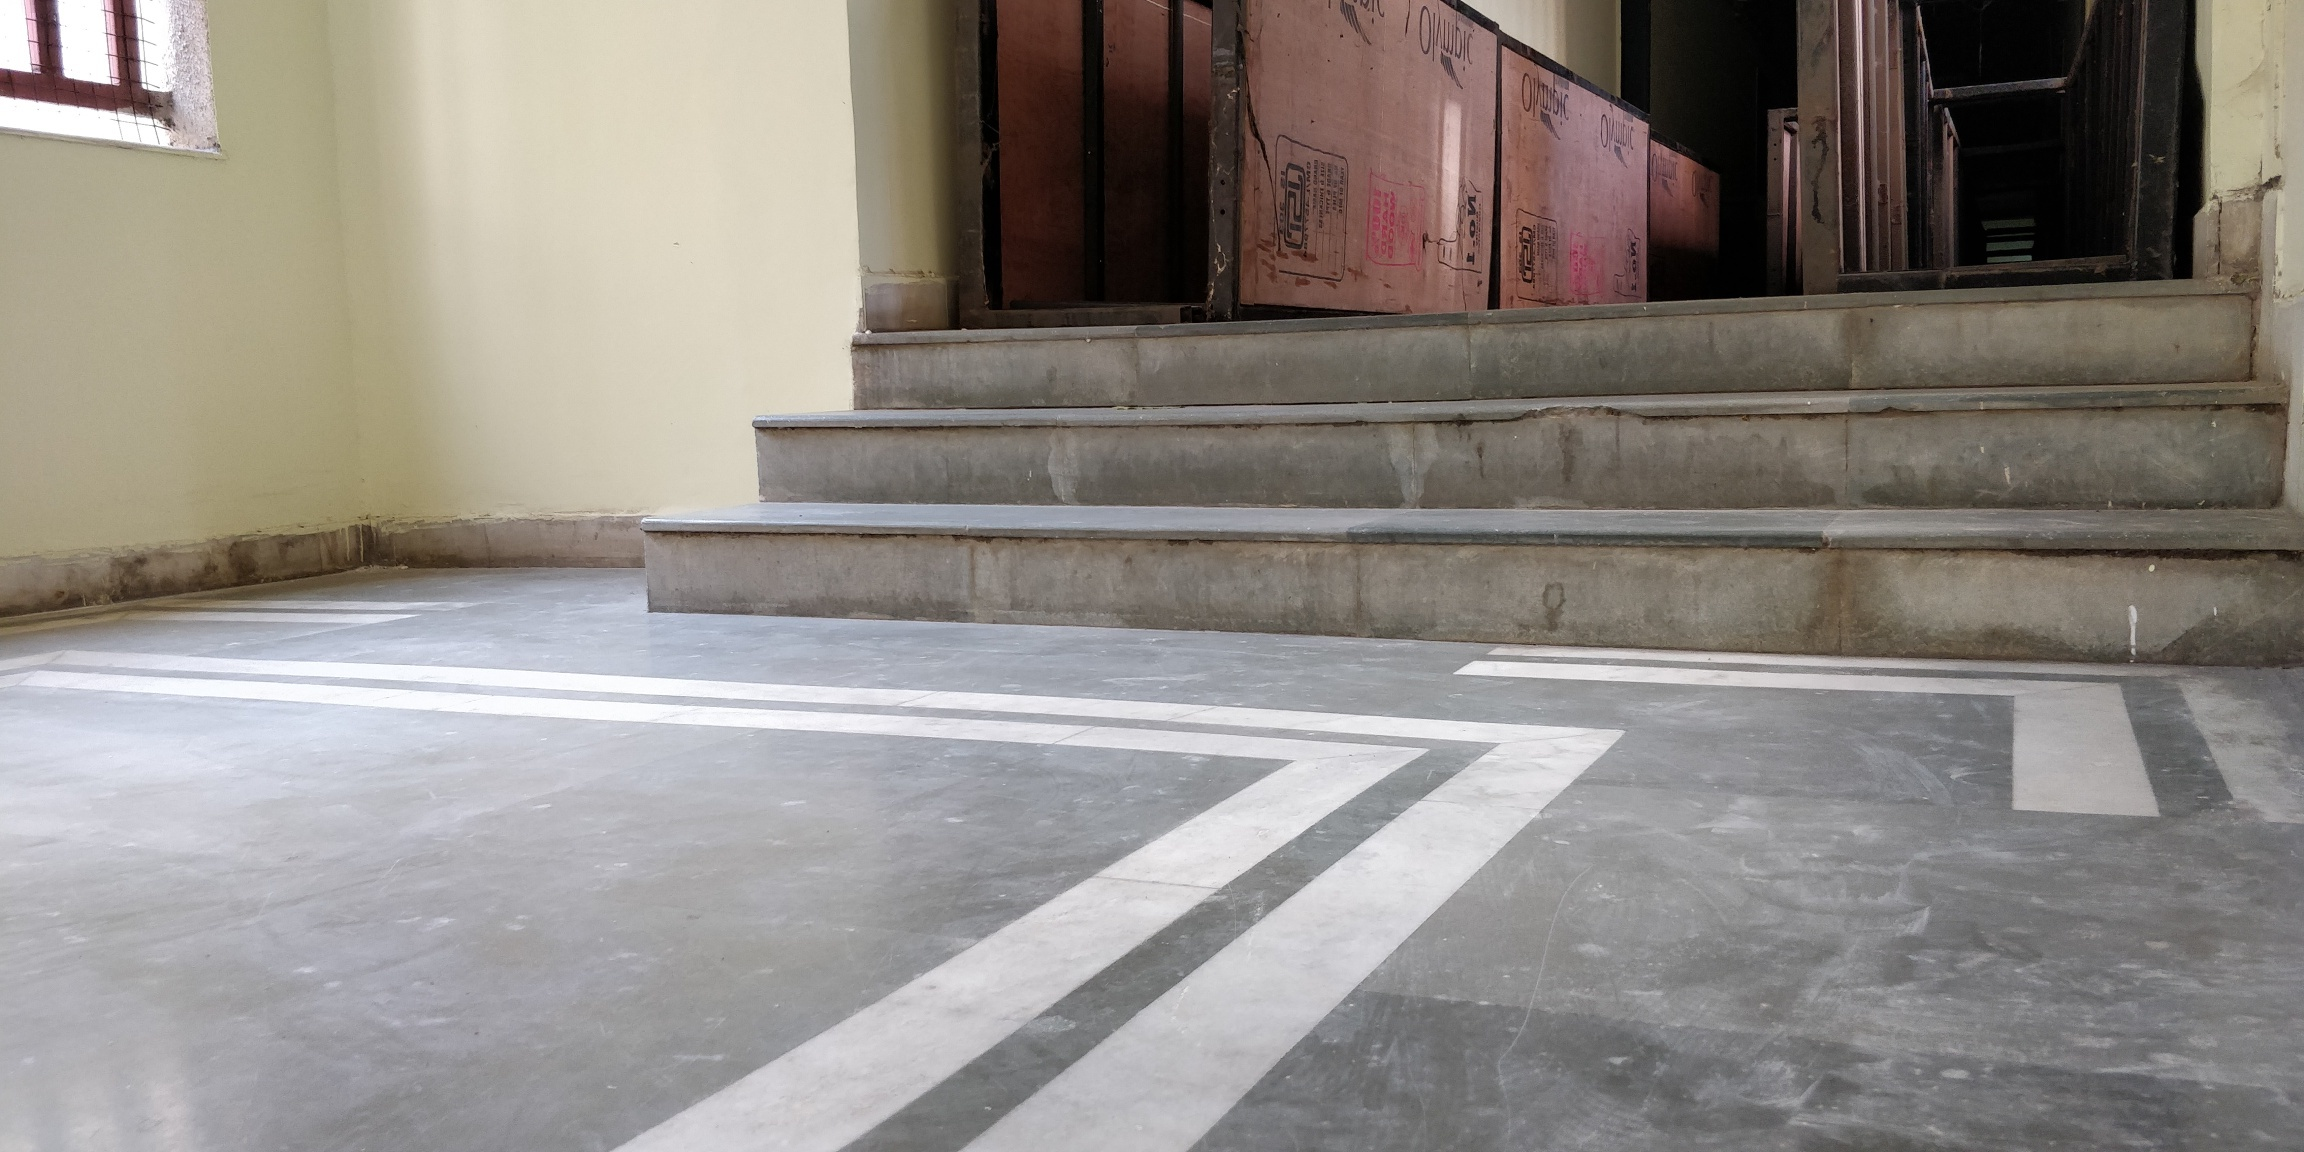stairs_up: (624, 281, 2304, 647)
